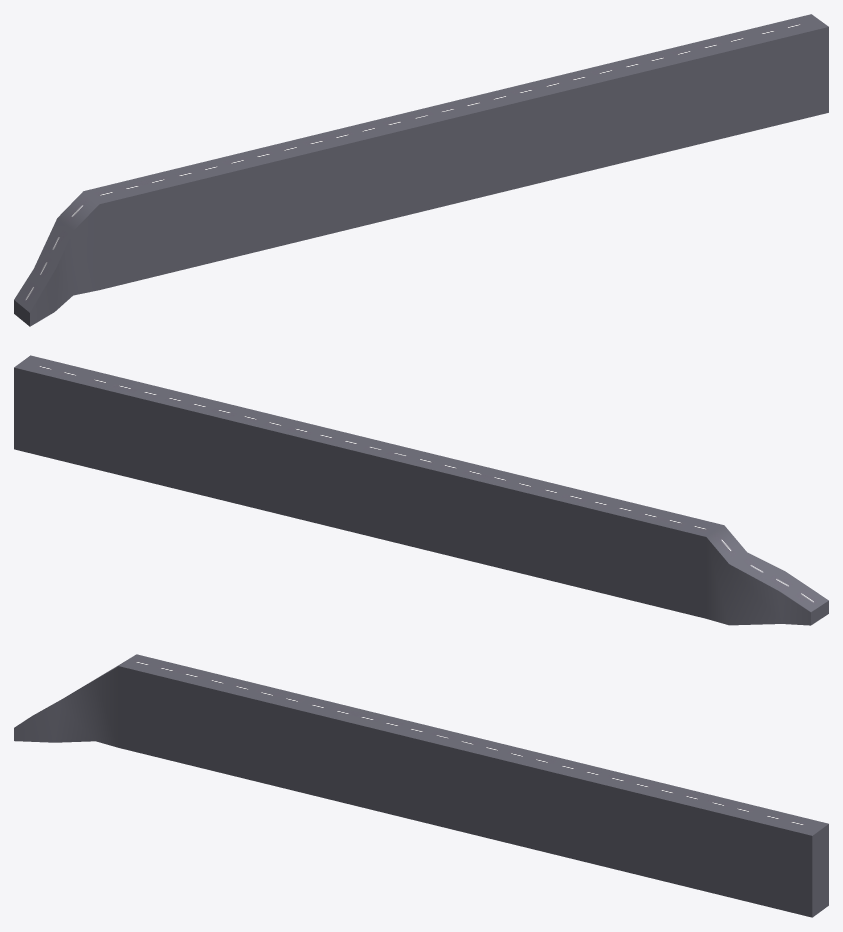
The model's file is road_11.fbx.
3 views of the same model, one above another, from view 1: azimuth 30°, elevation 25°; view 2: azimuth 150°, elevation 25°; view 3: azimuth 330°, elevation 25° (orthographic). The views are drawn at different scales.
Visible parts, largest first — view 1: road_11; view 2: road_11; view 3: road_11.
Part boxes in pixels (x1,y1,x2,y2): road_11: [14, 14, 828, 326]; road_11: [14, 355, 828, 625]; road_11: [14, 654, 828, 917].
Size of the model in its own units: 24.3 by 2.44 by 1.99.
Materials: 1 (1 with a texture image).
